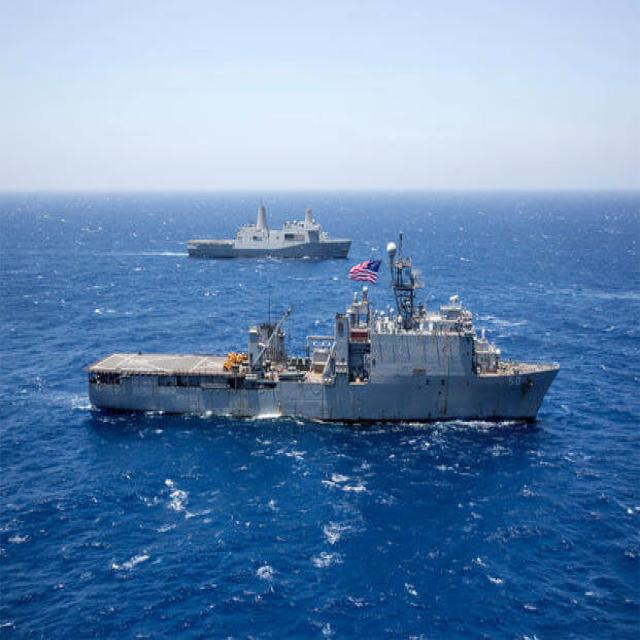navalvessels: (82, 236, 560, 454), (167, 192, 353, 264)
